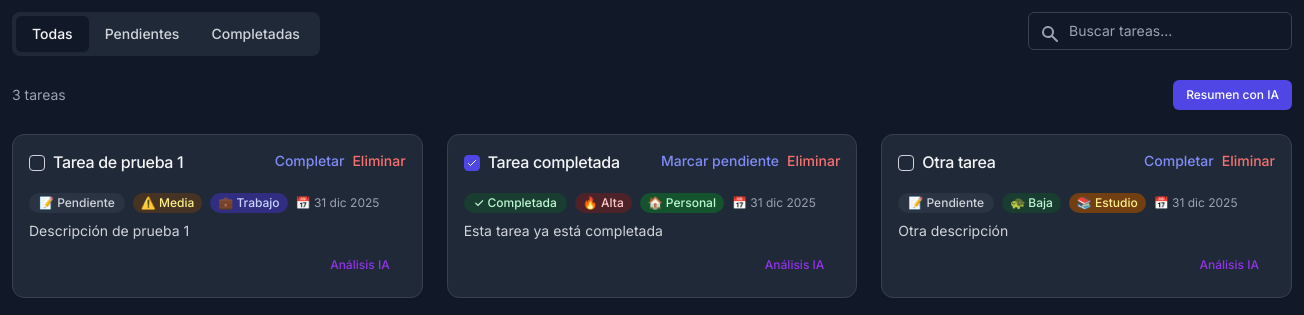
TaskList › filters tasks by tab
The image size is (1304, 315).
Check: the heading "Tarea de prueba 1" is shown, box [53,151,183,173]
Click on 'Completadas' tab
Click the button "Completadas" at (256, 34), box [195,16,316,52]
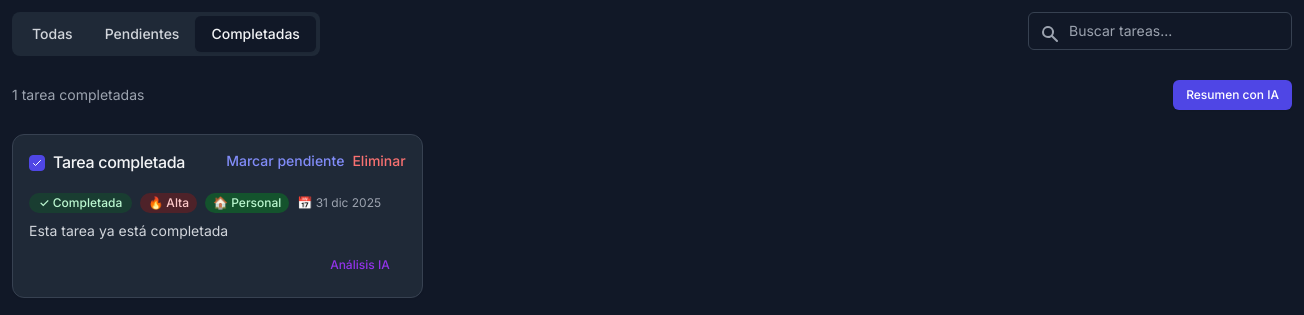
Check: the heading "Tarea completada" is shown, box [53,151,185,173]
Click on 'Pendientes' tab
Click the button "Pendientes" at (142, 34), box [89,16,196,52]
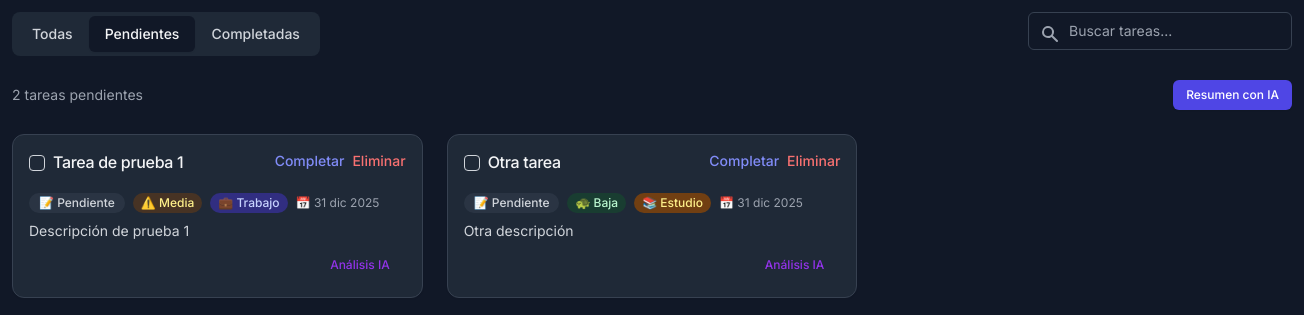
Check: the heading "Tarea de prueba 1" is shown, box [53,151,183,173]
Check: the text "tarea completada" is gone
